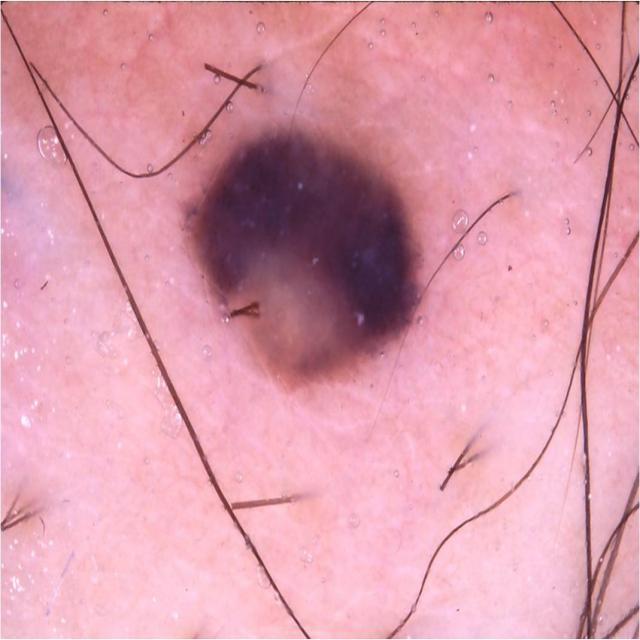Benign: (169, 125, 444, 412)
